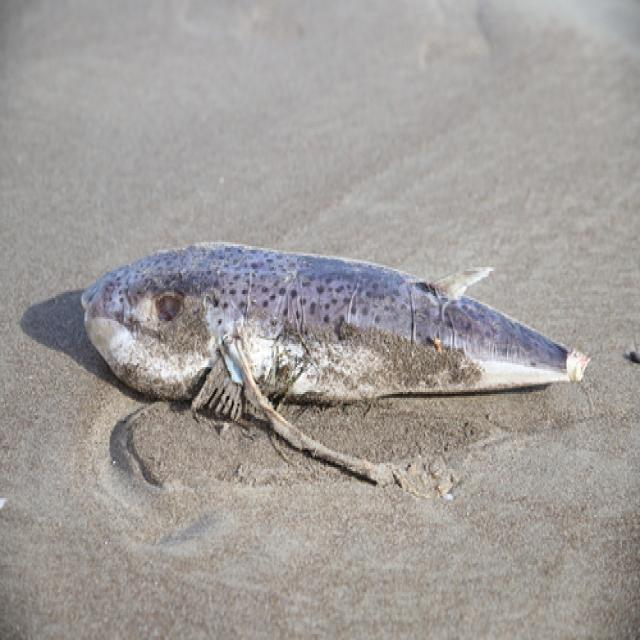Balik: (82, 245, 588, 484)
